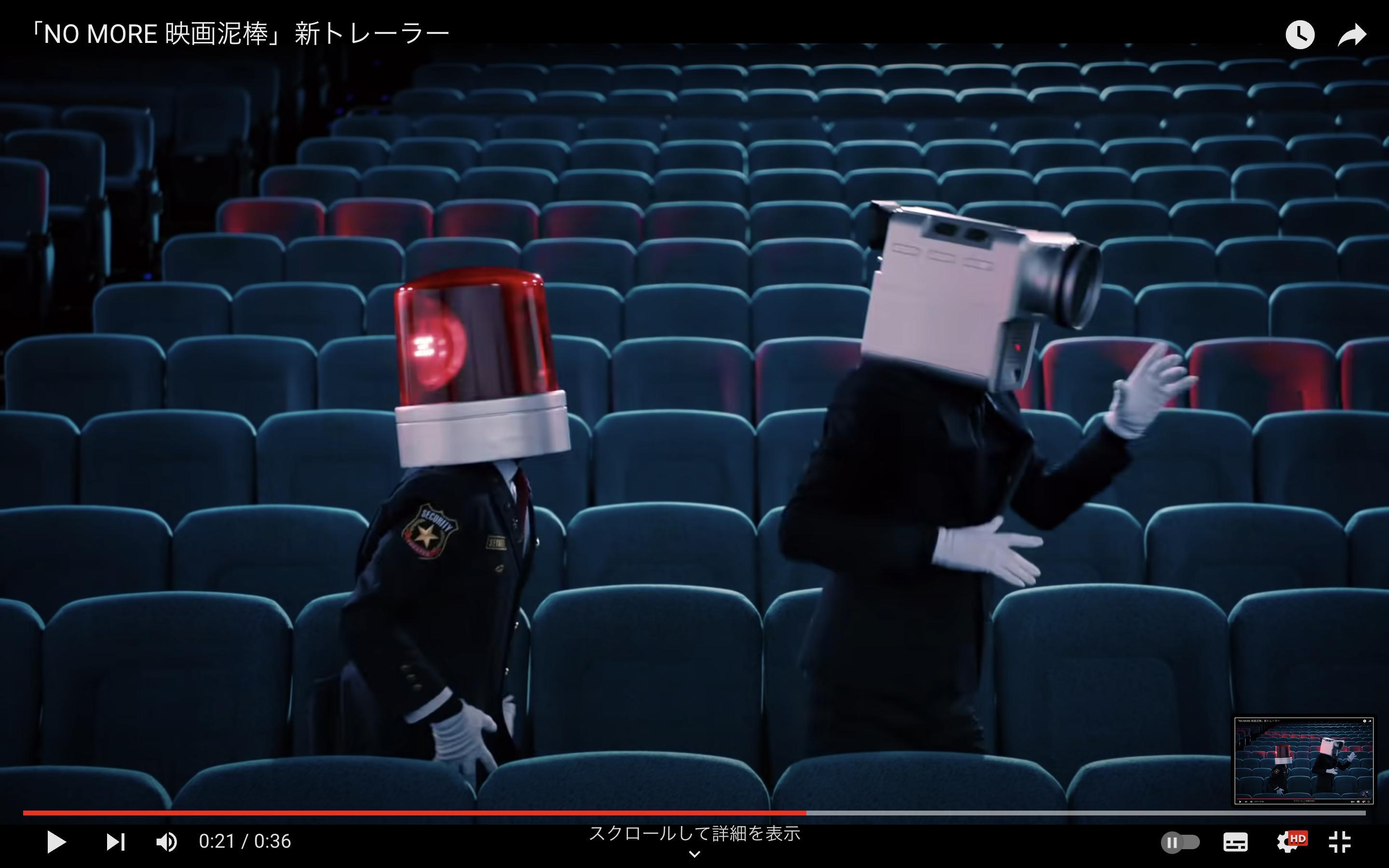no more kid: (850, 180, 1119, 411)
